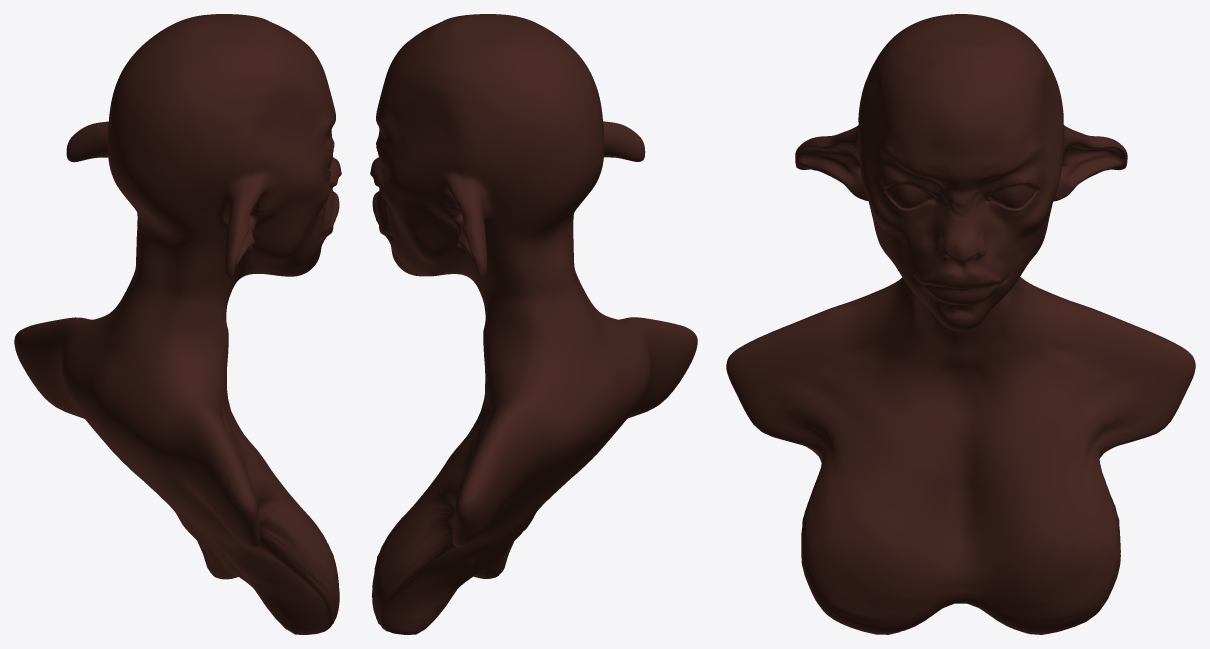
3 views of the same model, side by side, from view 1: azimuth 30°, elevation 25°; view 2: azimuth 150°, elevation 25°; view 3: azimuth 270°, elevation 25° (orthographic).
Parts seen in each view (by area): view 1: face_save; view 2: face_save; view 3: face_save.
Part boxes in pixels (<box>): face_save: <box>14,14,341,634</box>; face_save: <box>370,14,697,634</box>; face_save: <box>726,14,1195,634</box>.
Bounding box in the file's own units: 265 × 608 × 440.
